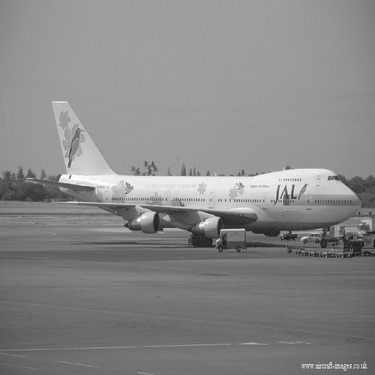airplane: (17, 85, 366, 252)
